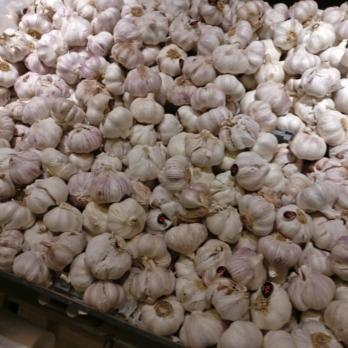Garlic: (181, 0, 348, 348), (0, 1, 174, 281)
